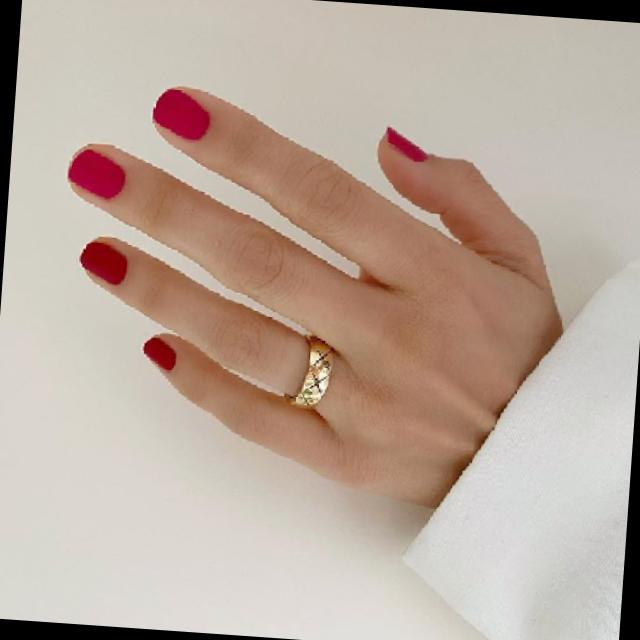Nail: (67, 147, 125, 198), (153, 88, 210, 139), (80, 239, 127, 284), (387, 127, 426, 160), (143, 335, 176, 371)
